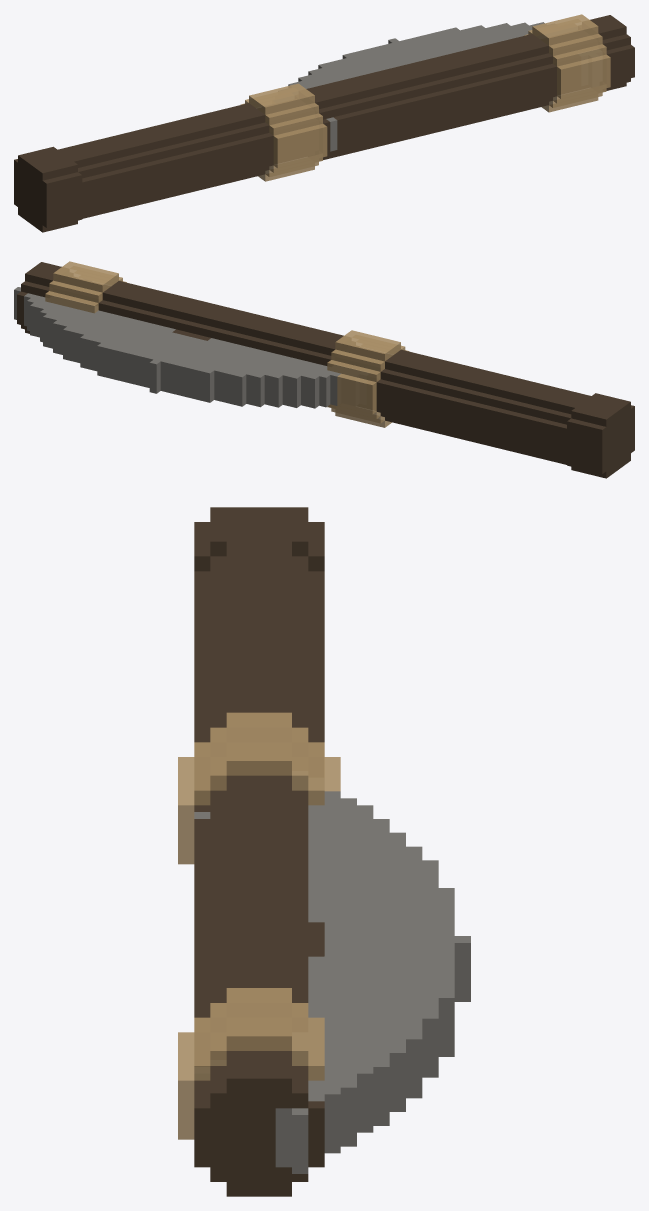
File: sickle_stone.glb
3 views of the same model, one above another, from view 1: azimuth 30°, elevation 25°; view 2: azimuth 150°, elevation 25°; view 3: azimuth 270°, elevation 25° (orthographic). The views are drawn at different scales.
Visible parts, largest first — view 1: sickle_stone:compound; view 2: sickle_stone:compound; view 3: sickle_stone:compound.
Boxes of the visible parts, x1,y1,x2,y2 form: sickle_stone:compound: (14,14,634,232); sickle_stone:compound: (14,261,634,478); sickle_stone:compound: (178,507,470,1196).
Size of the model in its own units: 0.336 by 0.04 by 0.072.
